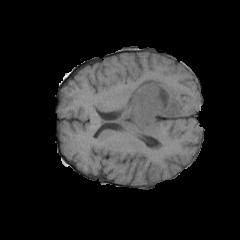glioma: (94, 78, 185, 146)
